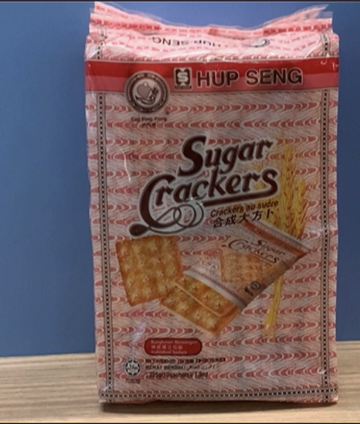crackers_200g-299g: (106, 61, 329, 395)
